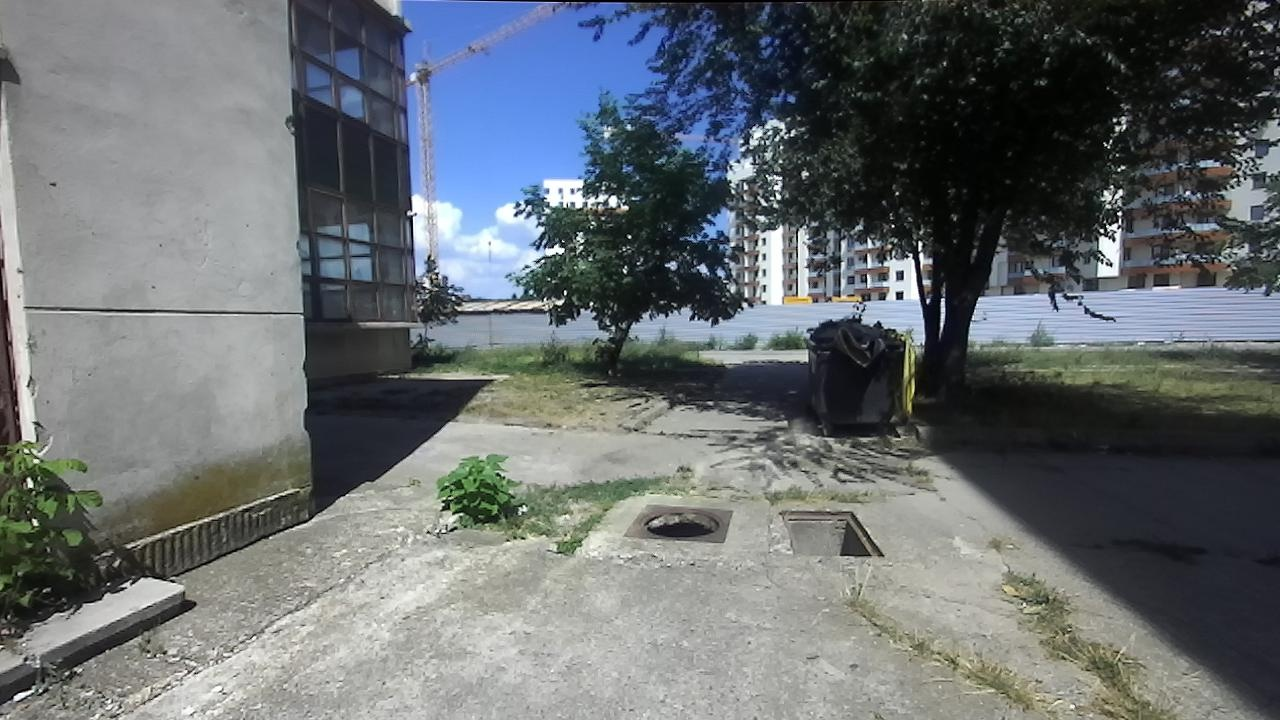drain: (776, 506, 889, 562), (638, 506, 726, 539)
